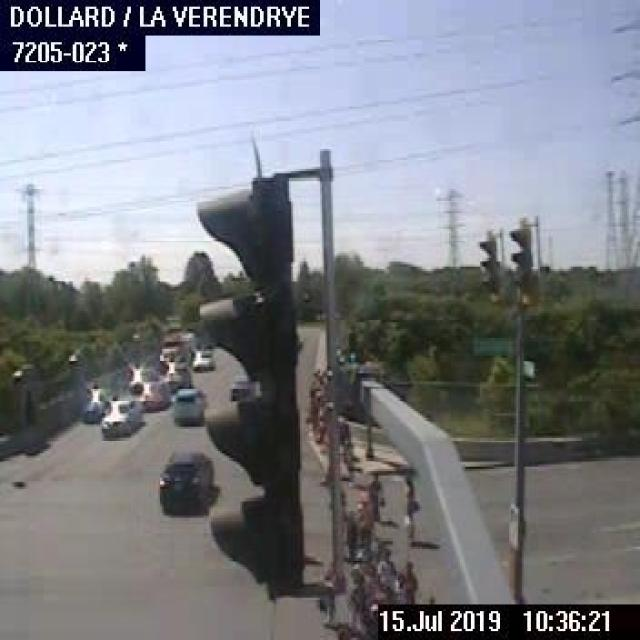pedestrian: (340, 425, 361, 485), (365, 471, 388, 523), (404, 476, 419, 538), (344, 509, 358, 565), (312, 405, 324, 447), (402, 562, 414, 600), (322, 591, 334, 622), (363, 422, 372, 458)
vehicle: (156, 447, 209, 513), (101, 397, 145, 436), (170, 385, 204, 423), (160, 330, 198, 362), (81, 382, 107, 422), (139, 380, 171, 409), (160, 361, 189, 392), (229, 369, 255, 398), (191, 348, 216, 375), (129, 367, 149, 391)
